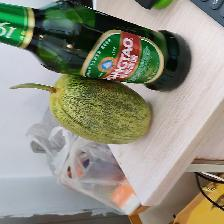gua: (44, 72, 153, 146)
